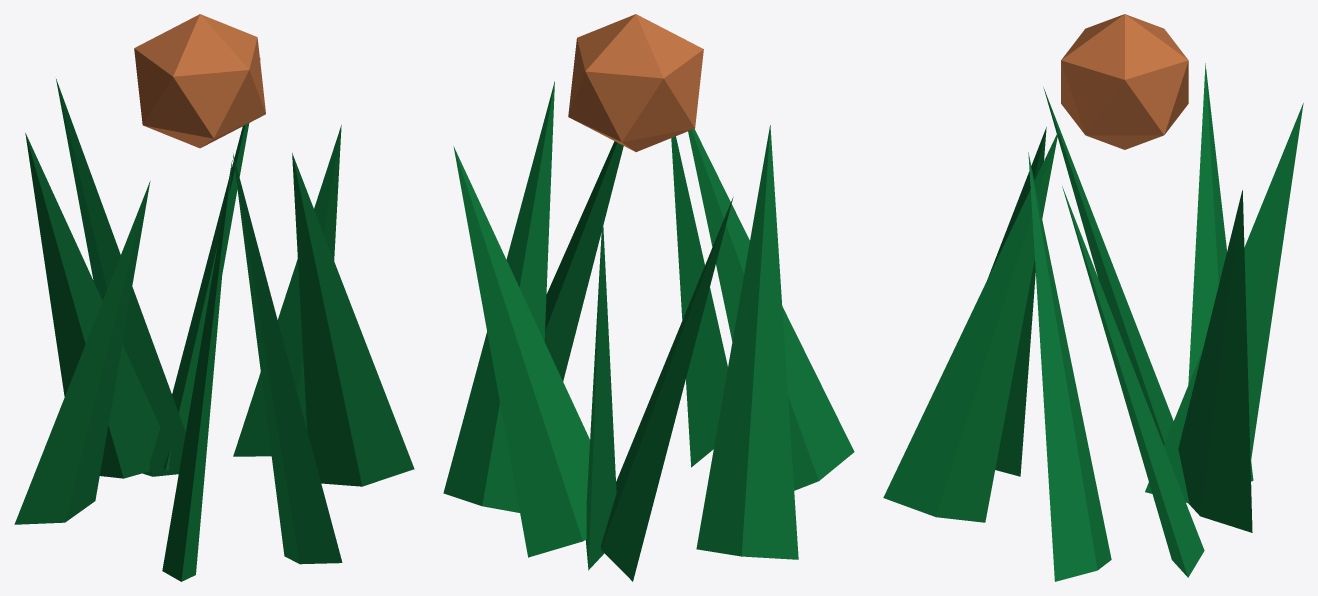
Rendered from Prop_OR_Herb_22.glb.
The picture shows the model from 3 angles, left to right: view 1: azimuth 30°, elevation 25°; view 2: azimuth 150°, elevation 25°; view 3: azimuth 270°, elevation 25°; orthographic projection. The views are drawn at different scales.
Visible parts, largest first — view 1: Prop_OR_Herb_22; view 2: Prop_OR_Herb_22; view 3: Prop_OR_Herb_22.
Boxes of the visible parts, <box> form: Prop_OR_Herb_22: <box>14,14,414,581</box>; Prop_OR_Herb_22: <box>443,14,854,581</box>; Prop_OR_Herb_22: <box>883,14,1303,581</box>.
Bounding box in the file's own units: 0.3737 × 0.5029 × 0.3824.
